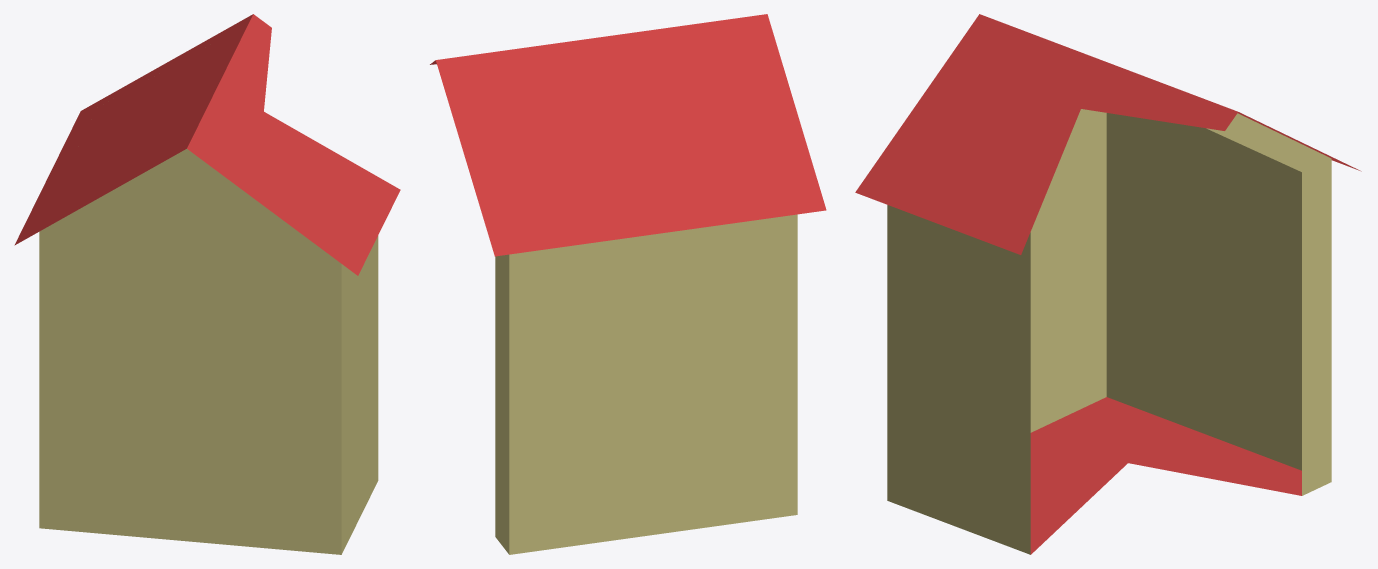
3 renders of one model, left to right at view 1: azimuth 30°, elevation 25°; view 2: azimuth 150°, elevation 25°; view 3: azimuth 270°, elevation 25°, orthographic. The views are drawn at different scales.
Size of the model in its own units: 14.11 by 16.78 by 15.6.
